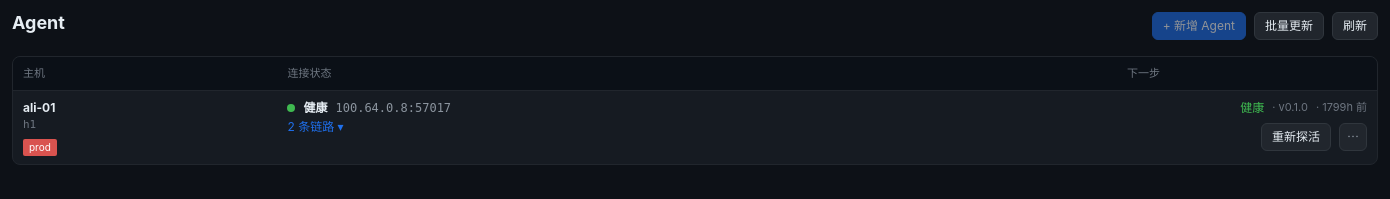
Test: AgentManagerTab › opens the batch update modal from the toolbar
The width and height of the screenshot is (1390, 199).
Click the button with test id "agent-bulk-update" at (1289, 26), box [1254,12,1324,40]
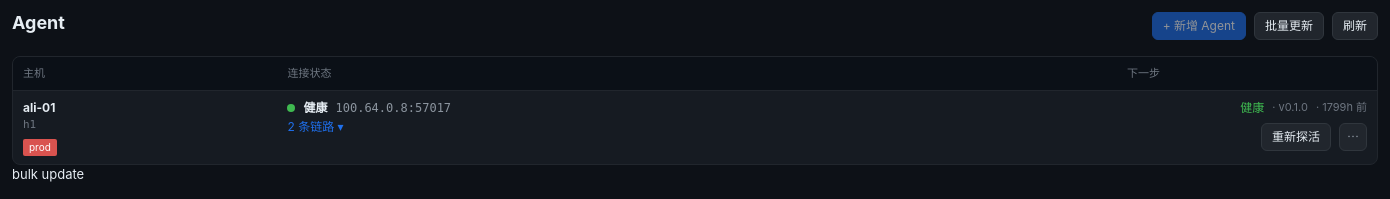
Expected: the text "bulk update" is shown, [12,166,84,182]
